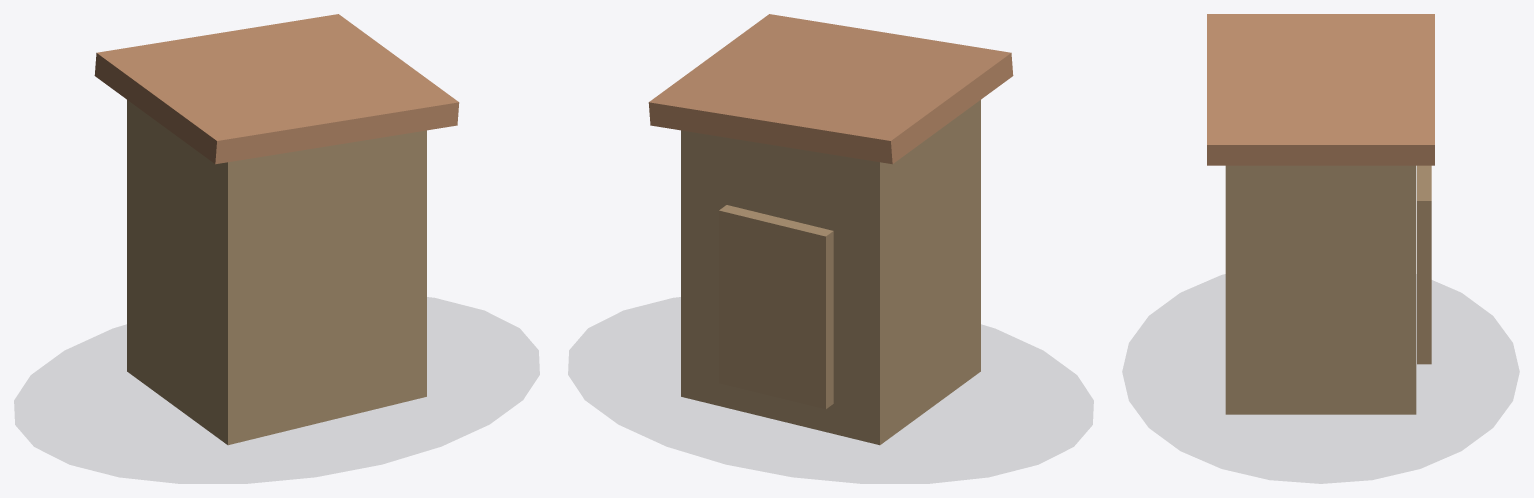
The model's file is latrine_outhouse.glb.
3 views of the same model, side by side, from view 1: azimuth 30°, elevation 25°; view 2: azimuth 150°, elevation 25°; view 3: azimuth 270°, elevation 25° (orthographic). The views are drawn at different scales.
Visible parts, largest first — view 1: outhouse_body, baked_contact_shadow, outhouse_roof; view 2: outhouse_body, baked_contact_shadow, outhouse_roof, outhouse_door; view 3: outhouse_body, baked_contact_shadow, outhouse_roof, outhouse_door.
Part boxes in pixels (x1,y1,x2,y2): outhouse_body: [127, 100, 426, 445]; baked_contact_shadow: [14, 297, 539, 483]; outhouse_roof: [94, 14, 459, 164]; outhouse_body: [681, 100, 980, 445]; baked_contact_shadow: [568, 297, 1093, 483]; outhouse_roof: [648, 14, 1013, 164]; outhouse_door: [719, 205, 833, 409]; outhouse_body: [1225, 165, 1416, 414]; baked_contact_shadow: [1123, 275, 1518, 483]; outhouse_roof: [1207, 14, 1434, 165]; outhouse_door: [1417, 165, 1431, 364].
Size of the model in its own units: 2 by 1.26 by 1.5.
